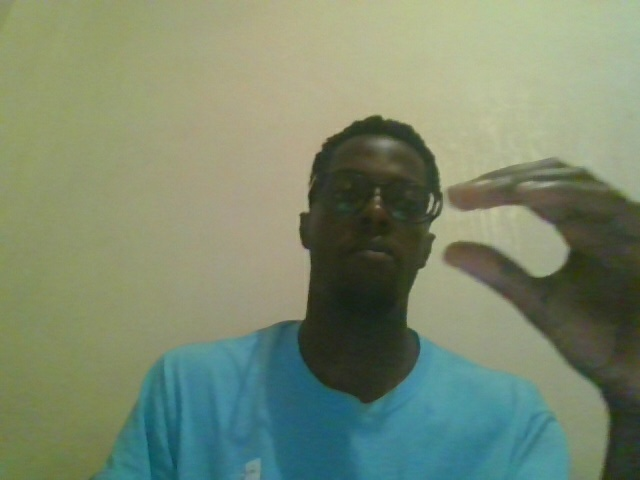No: (441, 140, 640, 445)
